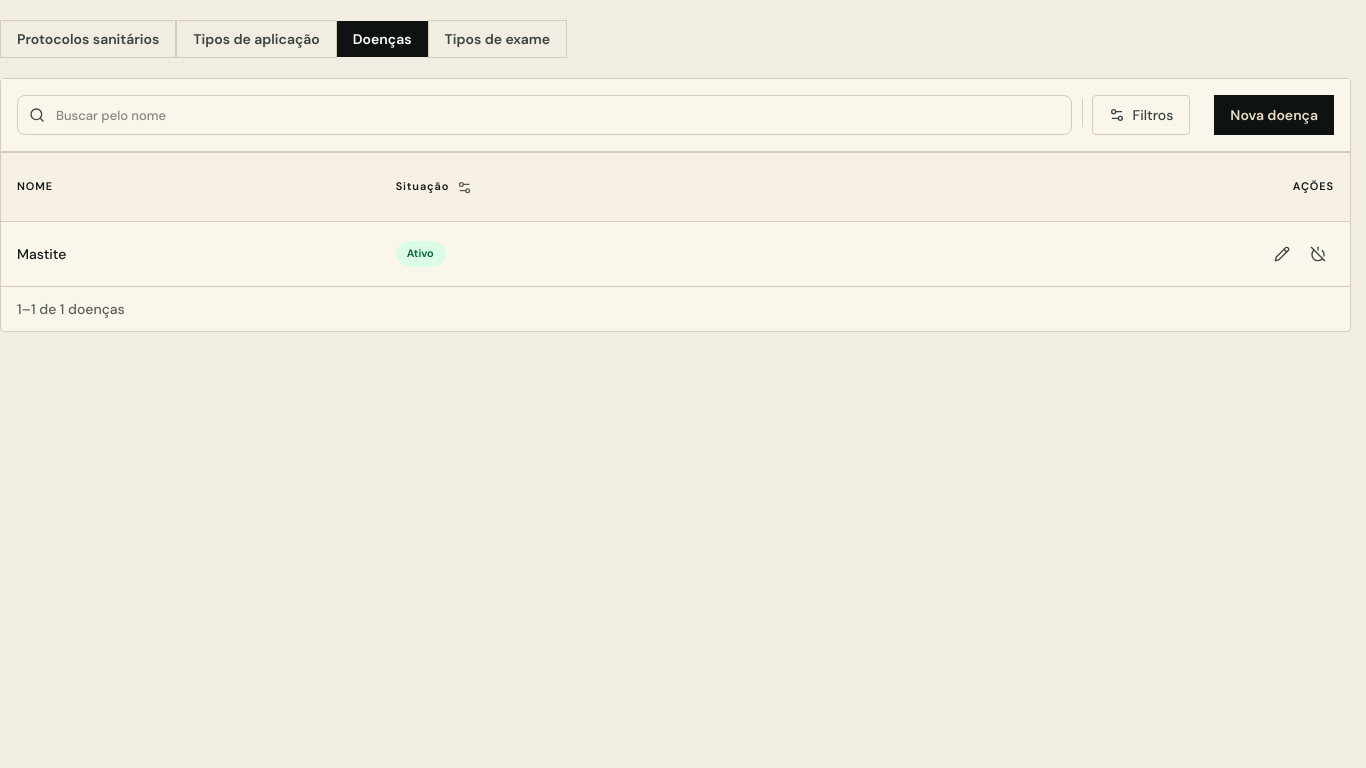
Test: Cadastros sanitários › edita doença com PATCH e conserva o editor
Click the button named "Editar Mastite": (1282, 254) [1266, 238, 1298, 270]
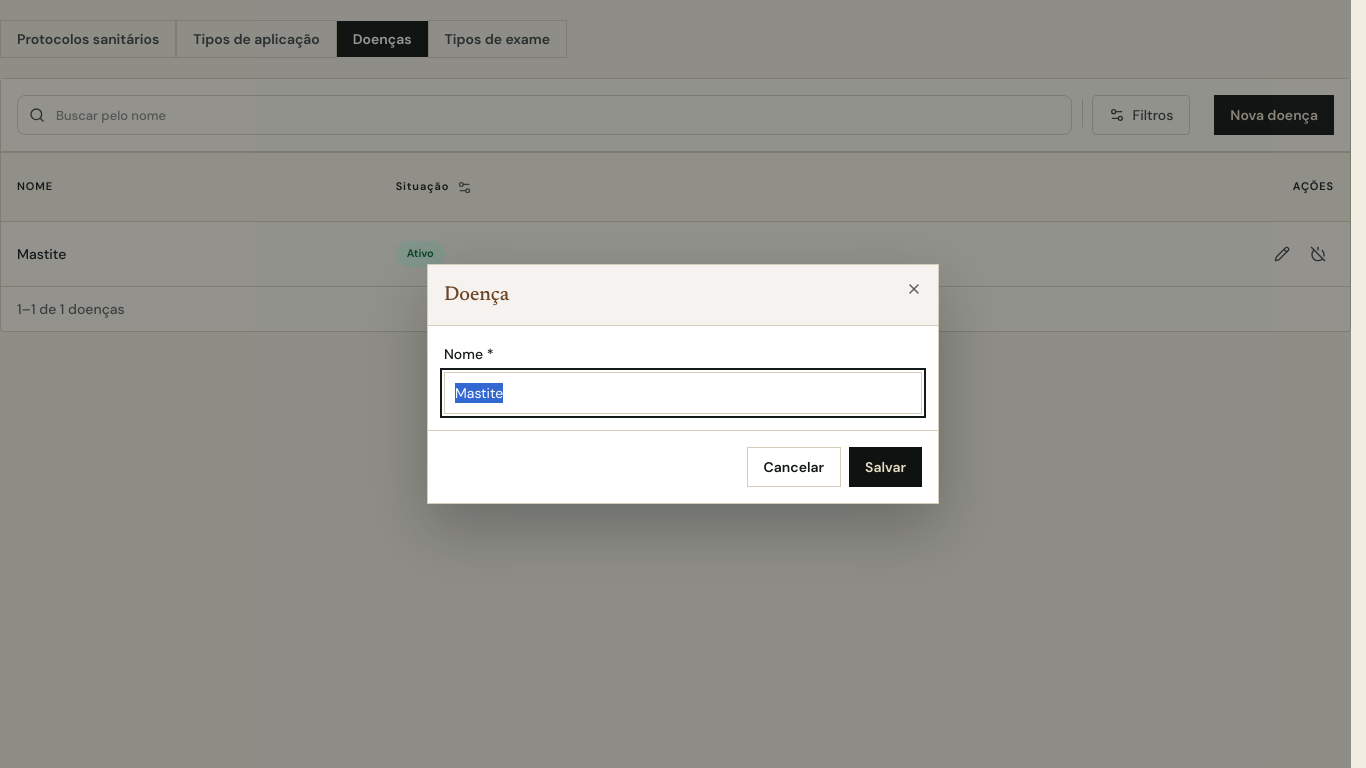
Replace the text in the field labelled "Nome" with "Mastite clínica": (683, 393) [444, 372, 922, 414]
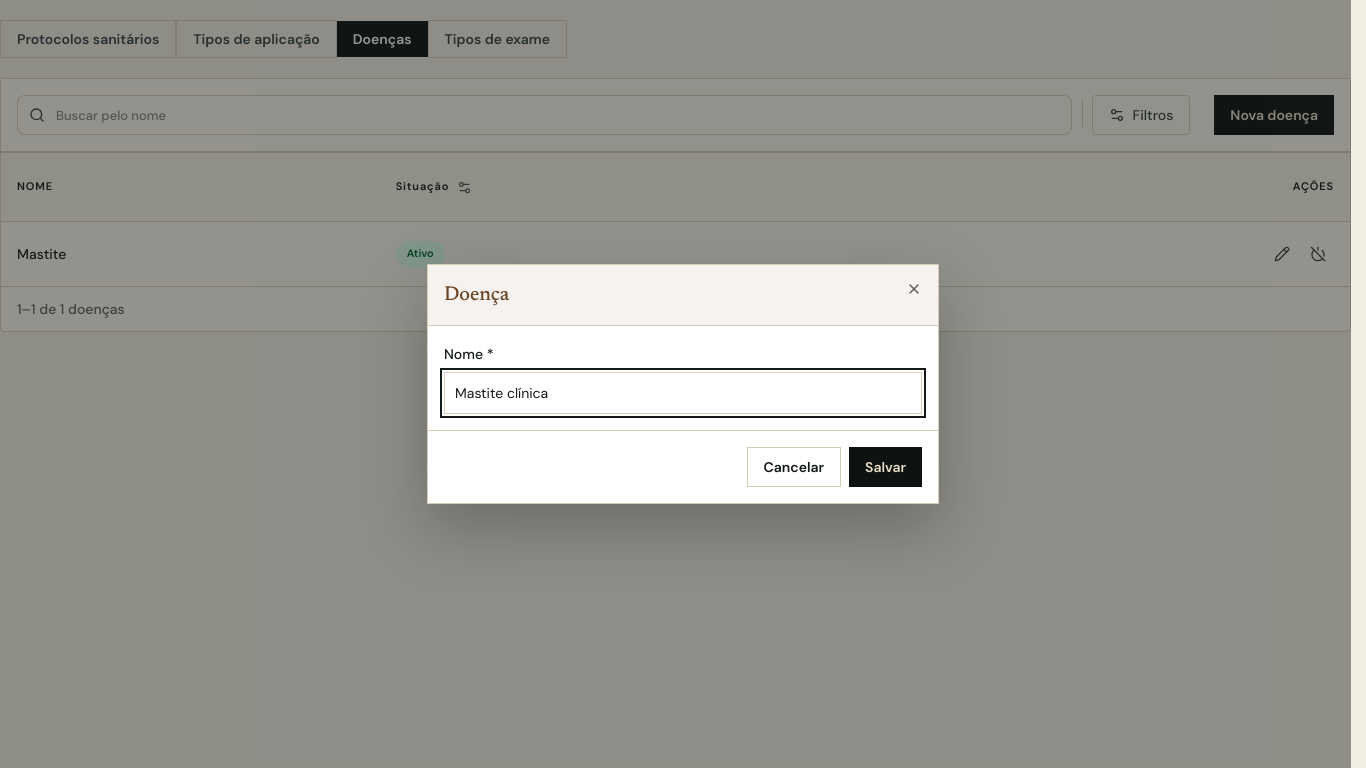
Click the button "Salvar": (886, 467) [849, 447, 922, 487]
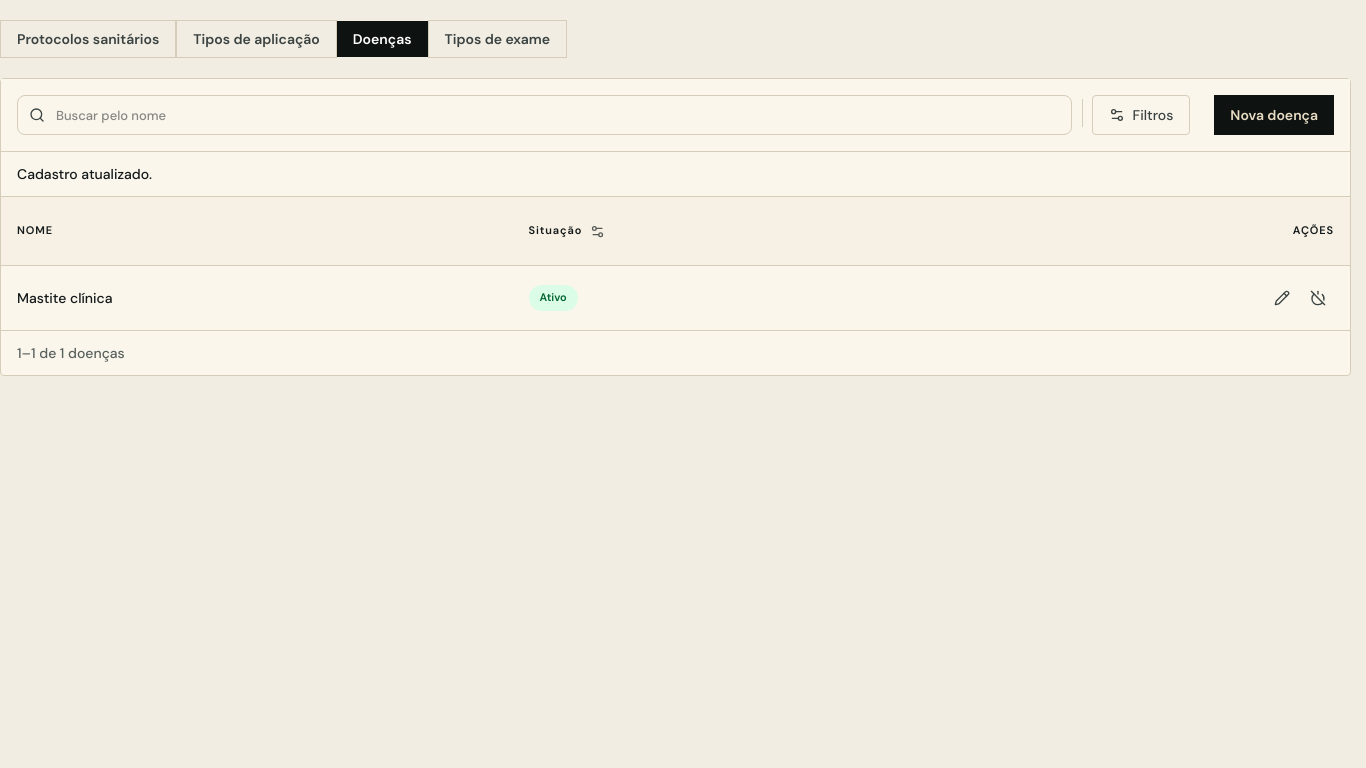
expect the text "Cadastro atualizado." is shown: met, box [17, 165, 152, 183]
